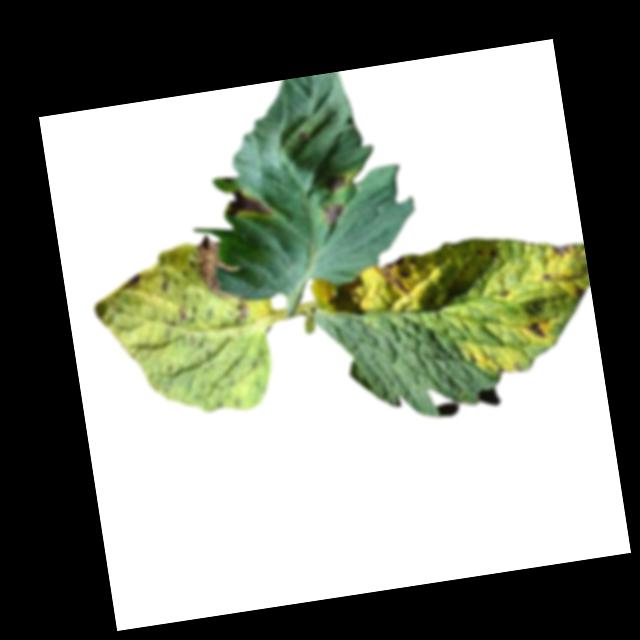Early_blight: (192, 230, 251, 329), (221, 183, 274, 223), (379, 254, 423, 299), (522, 318, 549, 344), (321, 202, 347, 228), (326, 173, 349, 195), (122, 270, 145, 290), (552, 241, 572, 259), (178, 303, 191, 323)
